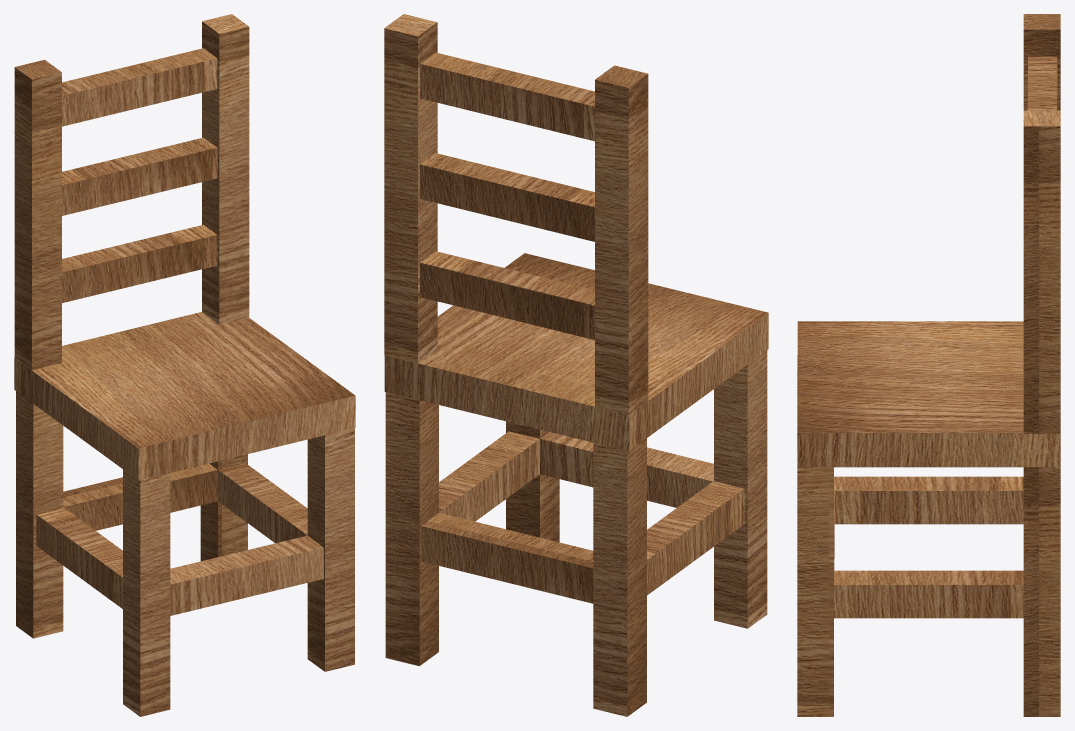
Rendered from Chair.fbx.
3 renders of one model, left to right at view 1: azimuth 30°, elevation 25°; view 2: azimuth 150°, elevation 25°; view 3: azimuth 270°, elevation 25°, orthographic. The views are drawn at different scales.
Visible parts, largest first — view 1: Chair; view 2: Chair; view 3: Chair.
Boxes of the visible parts, x1=… form: Chair: x1=14, y1=14, x2=355, y2=716; Chair: x1=384, y1=14, x2=768, y2=716; Chair: x1=797, y1=14, x2=1060, y2=716.
Size of the model in its own units: 60.3 by 148 by 59.75.
Materials: 1 (1 with a texture image).
